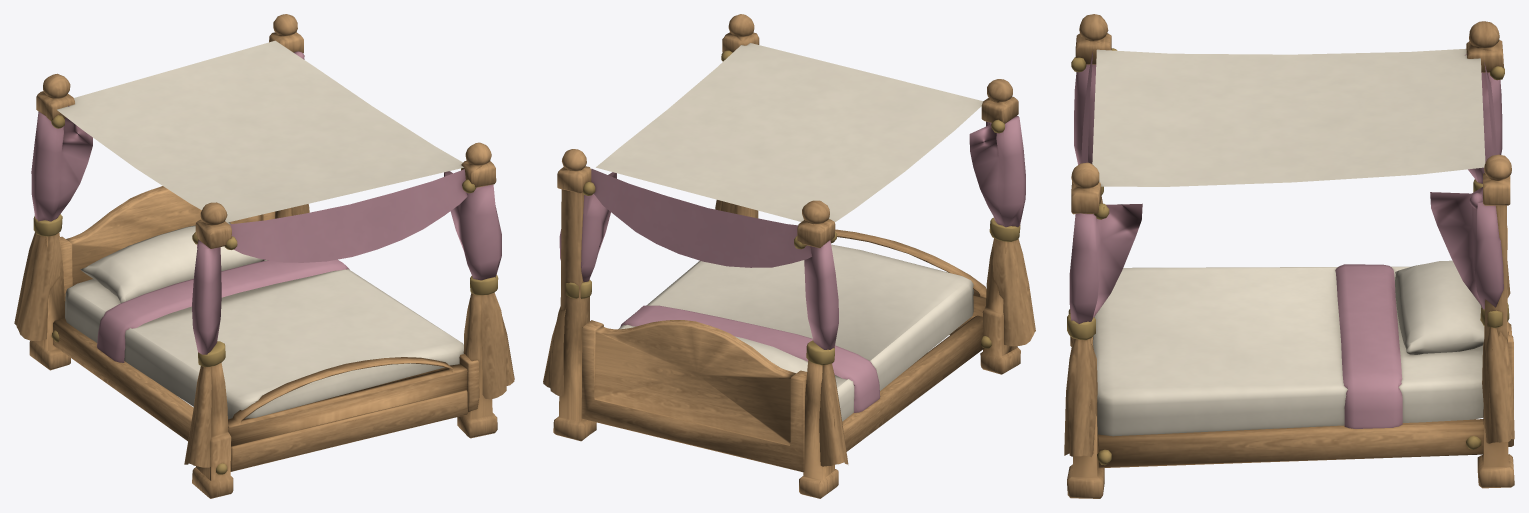
The model's file is canopy-pony-bed.glb.
The picture shows the model from 3 angles, left to right: view 1: azimuth 30°, elevation 25°; view 2: azimuth 150°, elevation 25°; view 3: azimuth 270°, elevation 25°; orthographic projection. The views are drawn at different scales.
Parts seen in each view (by area): view 1: canopy-pony-bed; view 2: canopy-pony-bed; view 3: canopy-pony-bed.
Boxes of the visible parts, x1,y1,x2,y2 form: canopy-pony-bed: (14, 14, 514, 498); canopy-pony-bed: (543, 14, 1035, 498); canopy-pony-bed: (1064, 14, 1514, 498).
Bounding box in the file's own units: 0.9473 × 0.8105 × 0.998.
Materials: 1 (1 with a texture image).
